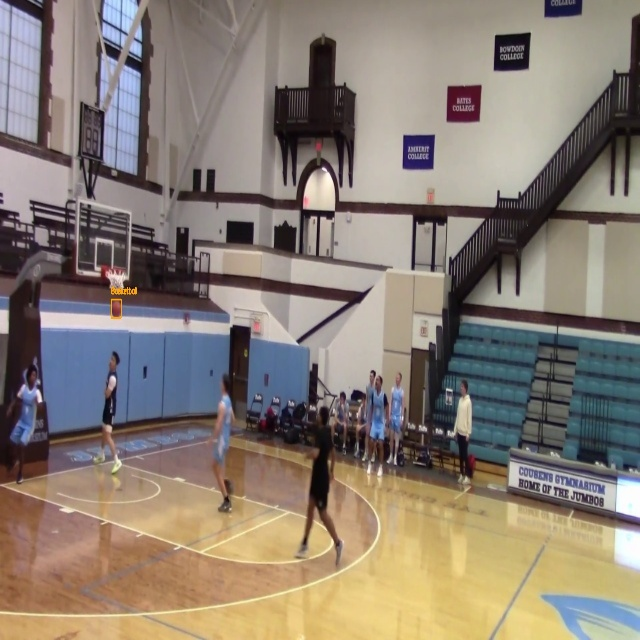Basketball: (111, 300, 121, 318)
